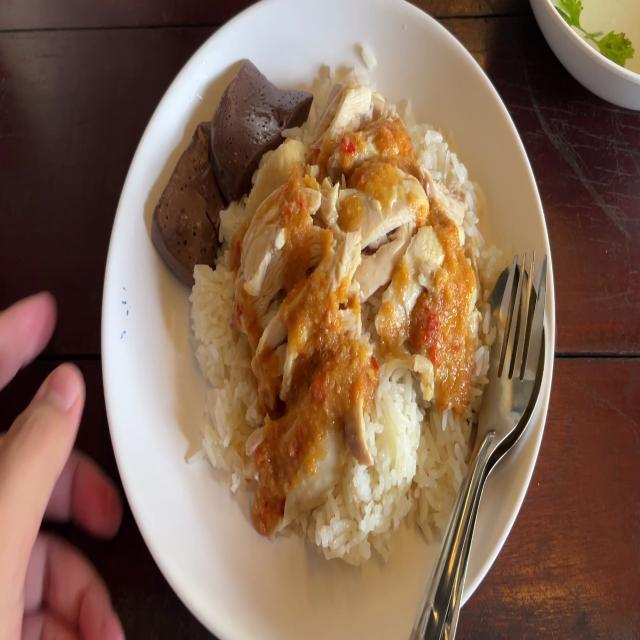boiled_chicken: (241, 76, 442, 491)
boiled_chicken_blood_jelly: (205, 52, 297, 179), (146, 125, 221, 266)
chicken_rice: (159, 42, 492, 557)
